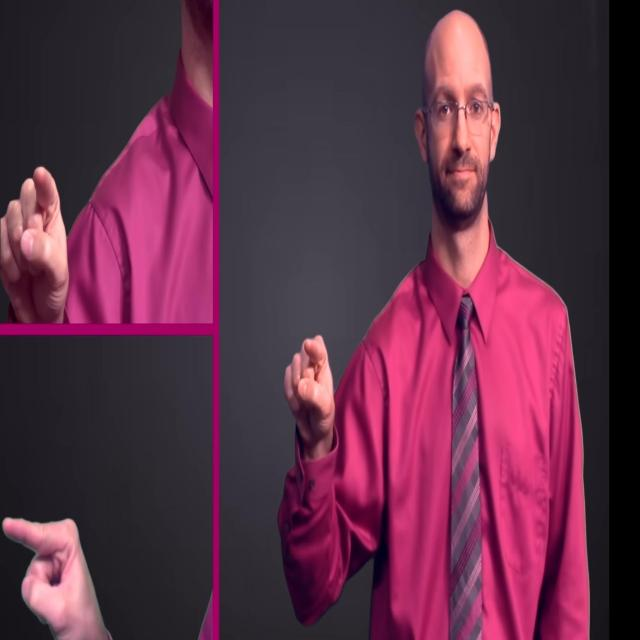Z: (1, 513, 118, 640), (0, 163, 71, 322), (283, 332, 337, 442)
